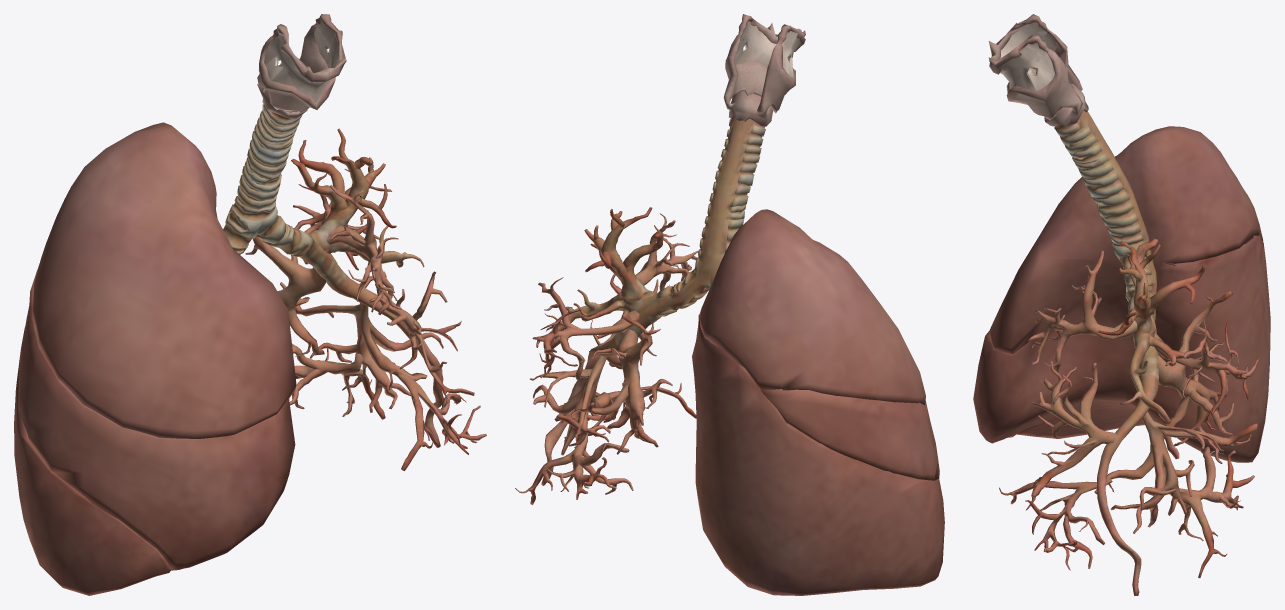
The model's file is Lung-Bronchi.glb.
The picture shows the model from 3 angles, left to right: view 1: azimuth 30°, elevation 25°; view 2: azimuth 150°, elevation 25°; view 3: azimuth 270°, elevation 25°; orthographic projection. The views are drawn at different scales.
Visible parts, largest first — view 1: LeftLung, Bronchi, Trachea, ThyroidCartliage, ThyroidMembrane; view 2: LeftLung, Bronchi, Trachea, ThyroidCartliage, ThyroidMembrane; view 3: LeftLung, Bronchi, Trachea, ThyroidCartliage, ThyroidMembrane.
Part boxes in pixels (x1,y1,x2,y2): LeftLung: (14, 122, 296, 595); Bronchi: (245, 169, 486, 470); Trachea: (223, 104, 443, 447); ThyroidCartliage: (257, 14, 346, 119); ThyroidMembrane: (264, 20, 338, 102); LeftLung: (692, 209, 944, 595); Bronchi: (515, 213, 698, 504); Trachea: (541, 116, 765, 485); ThyroidCartliage: (723, 14, 805, 126); ThyroidMembrane: (734, 21, 800, 77); LeftLung: (973, 126, 1270, 462); Bronchi: (999, 250, 1259, 578); Trachea: (1054, 111, 1204, 595); ThyroidCartliage: (988, 14, 1088, 126); ThyroidMembrane: (1000, 22, 1056, 90).
Size of the model in its own units: 27.28 by 33.07 by 17.6.
5 materials, 5 textured.
